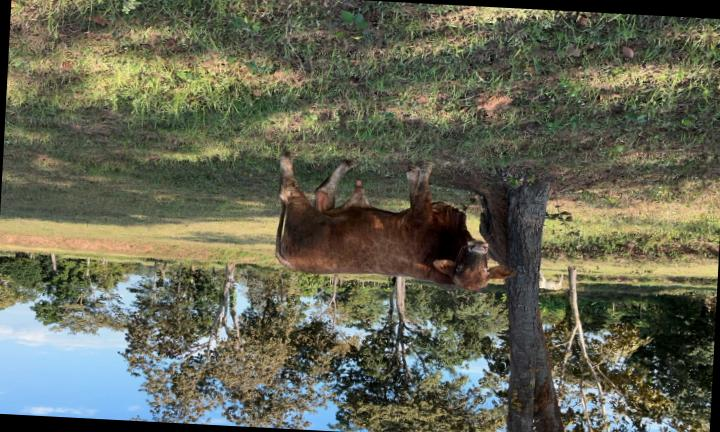Charolais: (276, 153, 515, 290)
